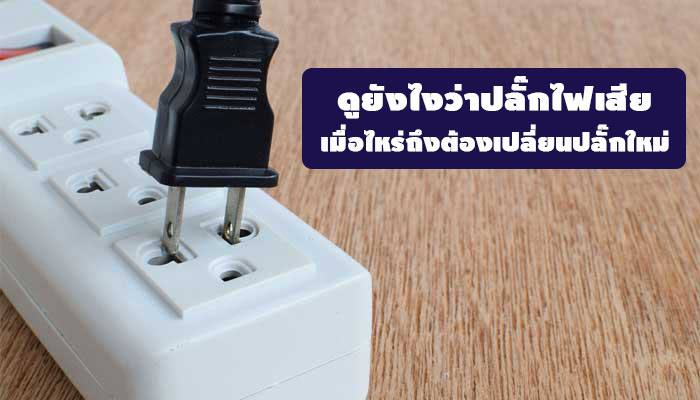Three_eye_plug: (1, 1, 378, 399)
